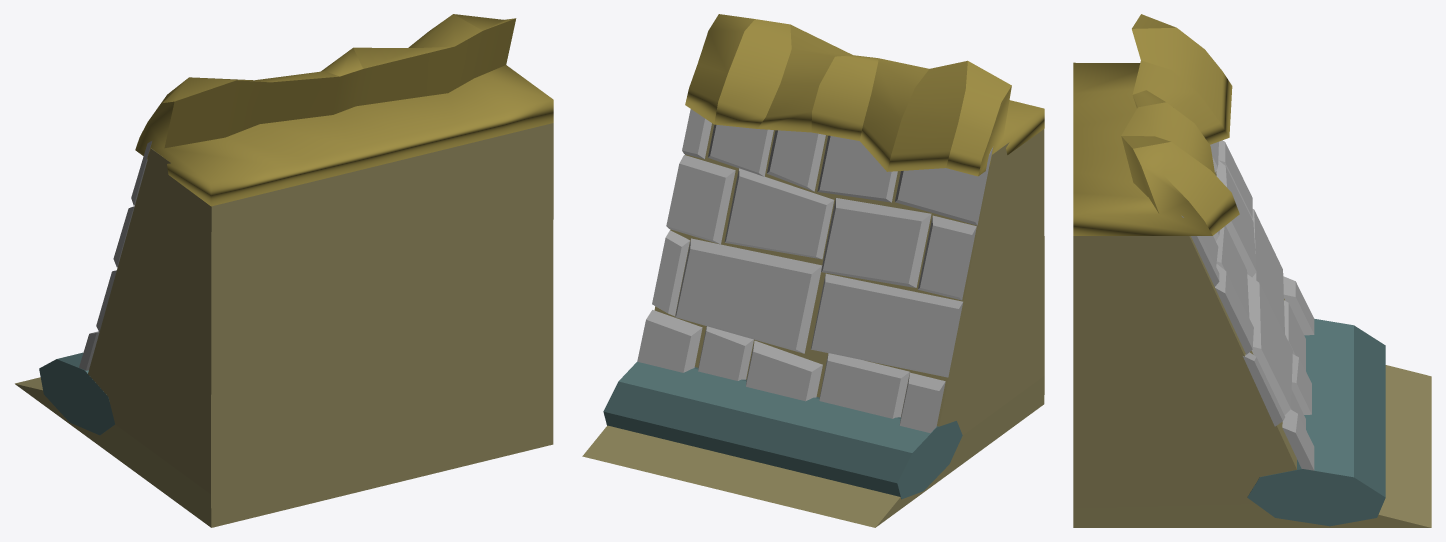
The model's file is Int 2 A.fbx.
3 views of the same model, side by side, from view 1: azimuth 30°, elevation 25°; view 2: azimuth 150°, elevation 25°; view 3: azimuth 270°, elevation 25° (orthographic). The views are drawn at different scales.
Visible parts, largest first — view 1: Int_22__Down_in_cross_:polySurface2; view 2: Int_22__Down_in_cross_:polySurface2; view 3: Int_22__Down_in_cross_:polySurface2.
Part boxes in pixels (left/top/right/bottom): Int_22__Down_in_cross_:polySurface2: left=15, top=14, right=553, bottom=527; Int_22__Down_in_cross_:polySurface2: left=582, top=14, right=1044, bottom=527; Int_22__Down_in_cross_:polySurface2: left=1073, top=14, right=1431, bottom=527.
Size of the model in its own units: 1 by 1.14 by 0.9964.
